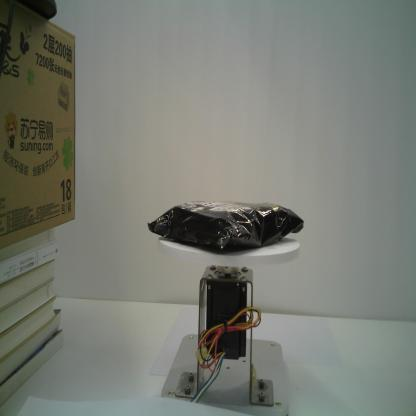Instant Noodles: (144, 195, 306, 258)
